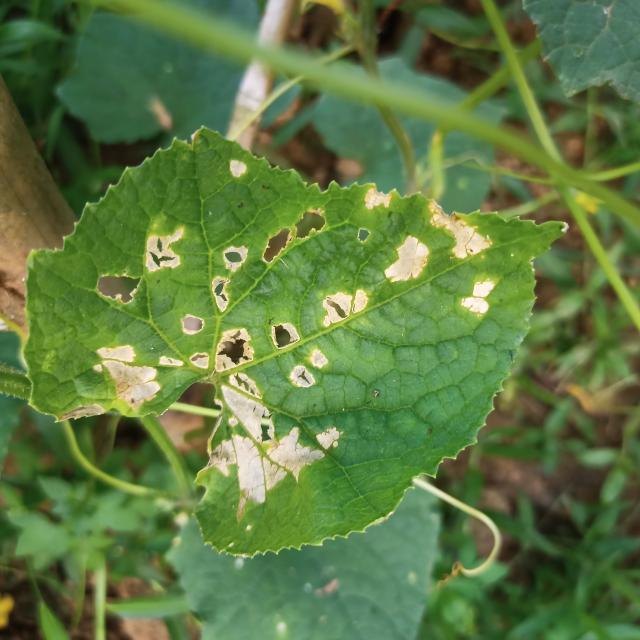disease_cucumber: (87, 224, 371, 519), (356, 184, 513, 320), (216, 152, 257, 191)
